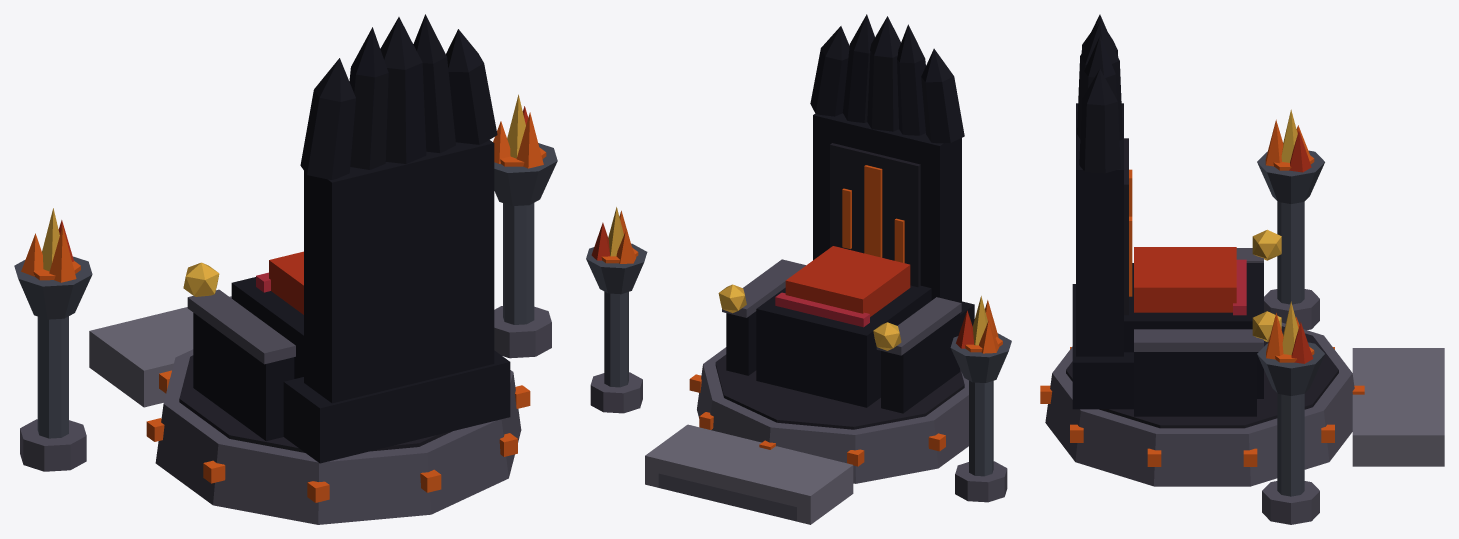
Rendered from Decor_Volcano_Throne.fbx.
The picture shows the model from 3 angles, left to right: view 1: azimuth 30°, elevation 25°; view 2: azimuth 150°, elevation 25°; view 3: azimuth 270°, elevation 25°; orthographic projection. The views are drawn at different scales.
Visible parts, largest first — view 1: Throne_Body; view 2: Throne_Body; view 3: Throne_Body.
Boxes of the visible parts, x1,y1,x2,y2 form: Throne_Body: (14,14,557,524); Throne_Body: (586,14,1011,524); Throne_Body: (1040,14,1444,524).
Bounding box in the file's own units: 15 × 12.7 × 11.6.
